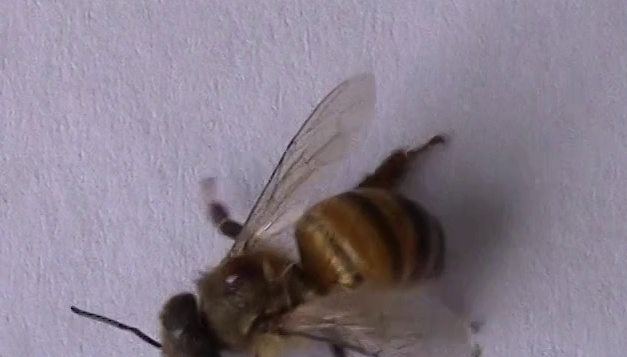Varroa destructor: (217, 256, 264, 292)
